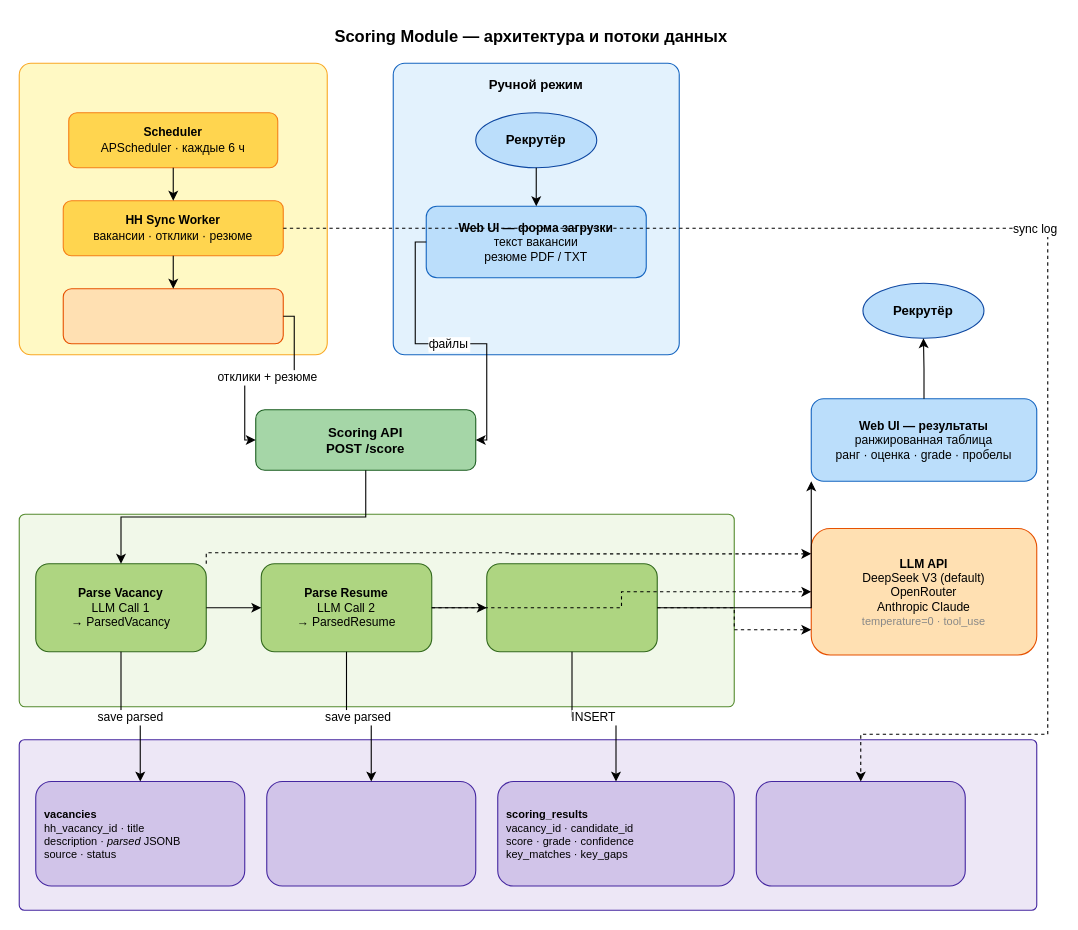
Image size: 1078x930. Some labels were removed from this diagram. Here are the shapes that lost their labels. From the top down, the box of each, then its label:
(18, 62, 327, 355): Автоматический режим
(62, 288, 283, 344): HH.ru Employer API OAuth2 · резюме = JSON
(18, 513, 734, 707): Scoring Pipeline · идемпотентный · кэш = БД
(486, 563, 657, 652): Score LLM Call 3 → CandidateScore
(266, 780, 476, 886): candidates hh_resume_id · name raw_text · parsed JSONB source
(18, 739, 1037, 910): PostgreSQL
(755, 780, 965, 886): hh_sync_log vacancy_id candidates_fetched · new status · error_msg
